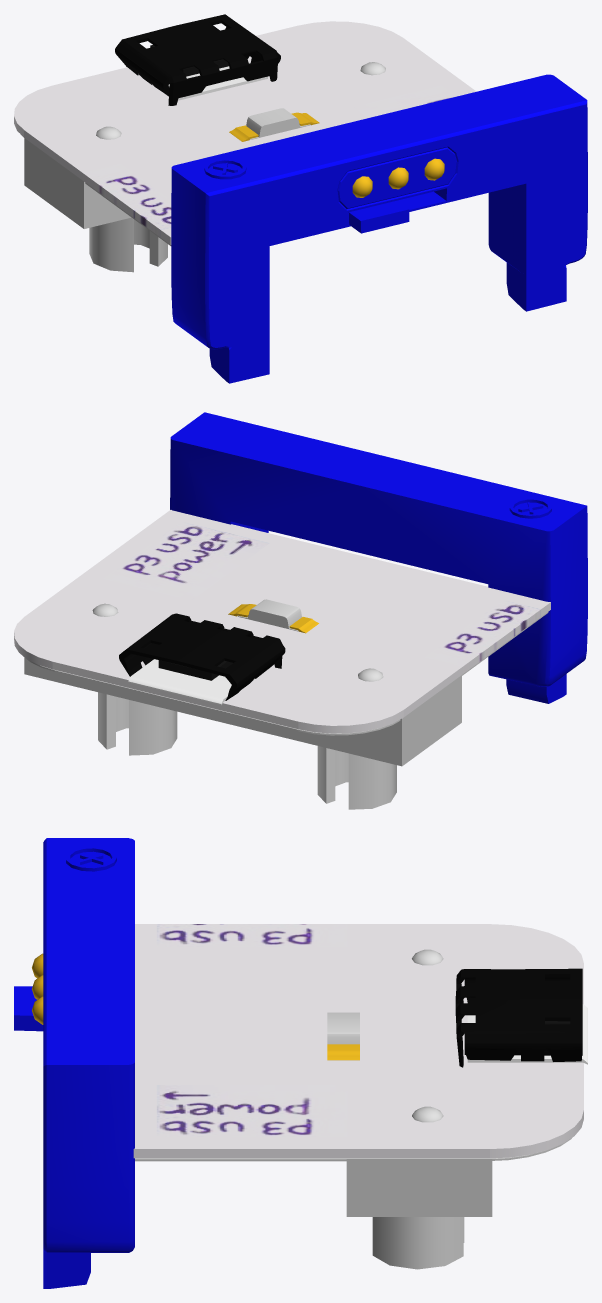
Rendered from p3 usb power.fbx.
The picture shows the model from 3 angles, top to bottom: view 1: azimuth 30°, elevation 25°; view 2: azimuth 150°, elevation 25°; view 3: azimuth 270°, elevation 25°; orthographic projection. The views are drawn at different scales.
Visible parts, largest first — view 1: Line005 (×2), Rectangle001, Line008, Box001, Tube004, Tube003, Tube005, Line006; view 2: Rectangle001, Line005 (×2), Line008, Box001, Tube004, Tube002, Tube003, Tube001, Rectangle002, Tube005, Box002, Line006; view 3: Rectangle001, Line005 (×2), Line008, Box001, Tube001, Rectangle002, Tube005.
Part boxes in pixels (x1=…): Line005 (×2): x1=171, y1=74, x2=587, y2=383; Rectangle001: x1=14, y1=21, x2=476, y2=244; Line008: x1=115, y1=14, x2=280, y2=105; Box001: x1=24, y1=138, x2=131, y2=228; Tube004: x1=89, y1=217, x2=133, y2=272; Tube003: x1=134, y1=219, x2=167, y2=266; Tube005: x1=204, y1=159, x2=246, y2=179; Line006: x1=229, y1=112, x2=319, y2=141; Rectangle001: x1=14, y1=510, x2=550, y2=733; Line005 (×2): x1=170, y1=412, x2=587, y2=703; Line008: x1=119, y1=613, x2=285, y2=705; Box001: x1=24, y1=657, x2=461, y2=766; Tube004: x1=348, y1=753, x2=396, y2=809; Tube002: x1=129, y1=700, x2=177, y2=755; Tube003: x1=317, y1=746, x2=348, y2=803; Tube001: x1=98, y1=692, x2=128, y2=749; Rectangle002: x1=23, y1=612, x2=548, y2=735; Tube005: x1=509, y1=498, x2=551, y2=518; Box002: x1=158, y1=660, x2=232, y2=680; Line006: x1=228, y1=604, x2=318, y2=633; Rectangle001: x1=133, y1=924, x2=583, y2=1158; Line005 (×2): x1=14, y1=838, x2=359, y2=1288; Line008: x1=455, y1=968, x2=587, y2=1067; Box001: x1=346, y1=1158, x2=492, y2=1216; Tube001: x1=372, y1=1217, x2=463, y2=1269; Rectangle002: x1=135, y1=1138, x2=571, y2=1161; Tube005: x1=66, y1=846, x2=116, y2=871.
Size of the model in its own units: 26.25 by 27.99 by 12.97.
